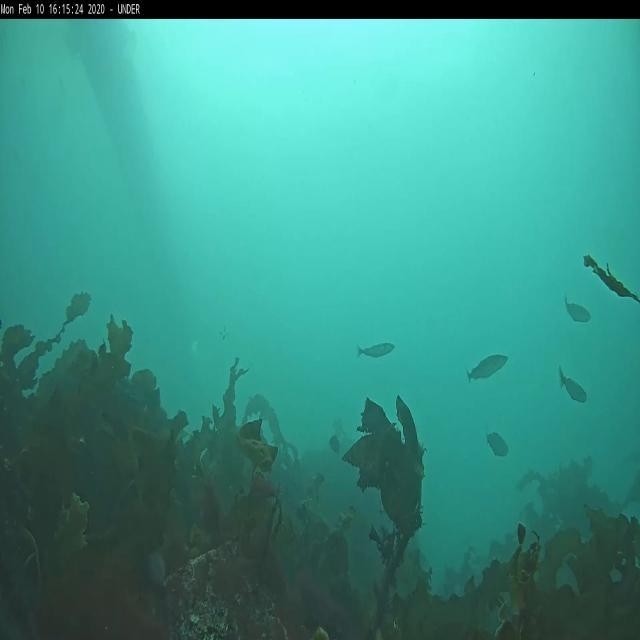fish: (466, 352, 510, 384), (558, 368, 587, 403), (564, 294, 591, 324), (486, 428, 508, 456), (358, 343, 396, 358)
